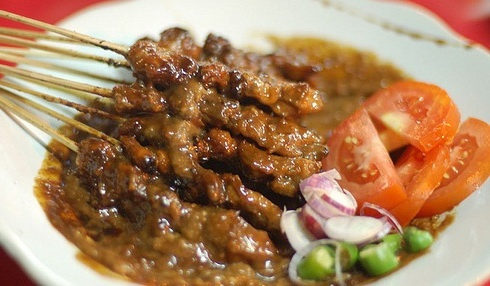sate_madura: (1, 2, 325, 266)
